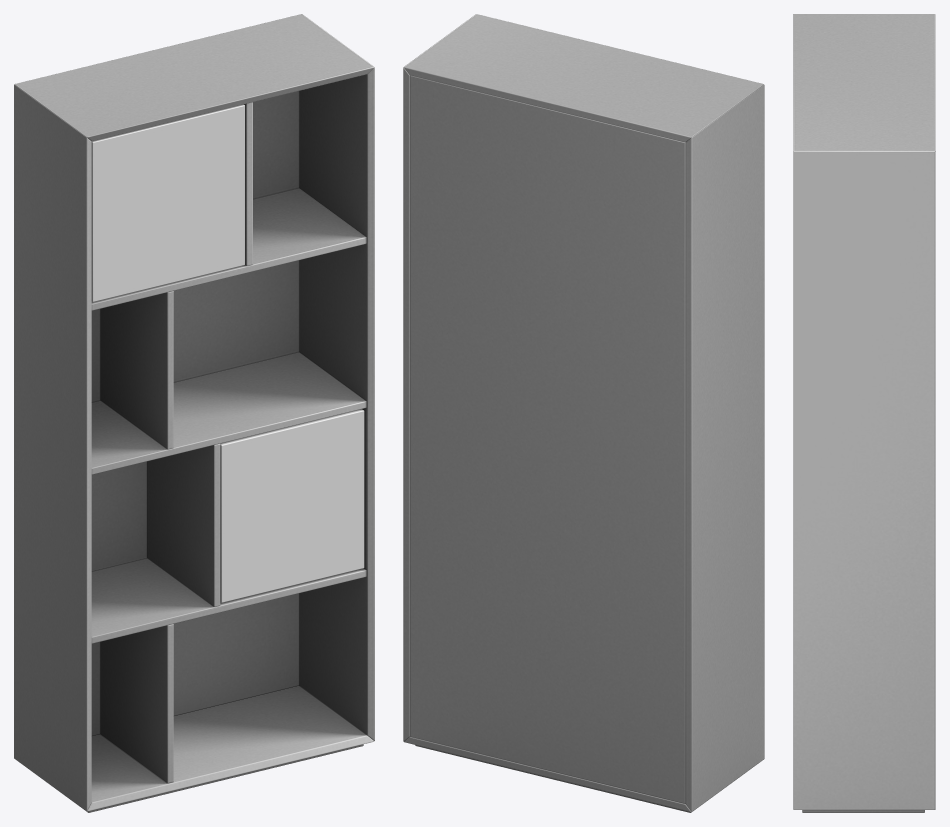
The model's file is stretto_tall_shelvesgrey.glb.
3 renders of one model, left to right at view 1: azimuth 30°, elevation 25°; view 2: azimuth 150°, elevation 25°; view 3: azimuth 270°, elevation 25°, orthographic. The views are drawn at different scales.
Visible parts, largest first — view 1: Stretto_Tall_Shelves_Grey_MEDIUM_GREY_0, Stretto_Tall_Shelves_Grey_WHITE_0; view 2: Stretto_Tall_Shelves_Grey_MEDIUM_GREY_0; view 3: Stretto_Tall_Shelves_Grey_MEDIUM_GREY_0.
Boxes of the visible parts, x1,y1,x2,y2 form: Stretto_Tall_Shelves_Grey_MEDIUM_GREY_0: [14, 14, 374, 812]; Stretto_Tall_Shelves_Grey_WHITE_0: [91, 104, 364, 602]; Stretto_Tall_Shelves_Grey_MEDIUM_GREY_0: [403, 14, 764, 812]; Stretto_Tall_Shelves_Grey_MEDIUM_GREY_0: [793, 14, 935, 812].
Size of what is drawn, in the model's own units: 79.65 by 180 by 34.84.
2 materials, 2 textured.
